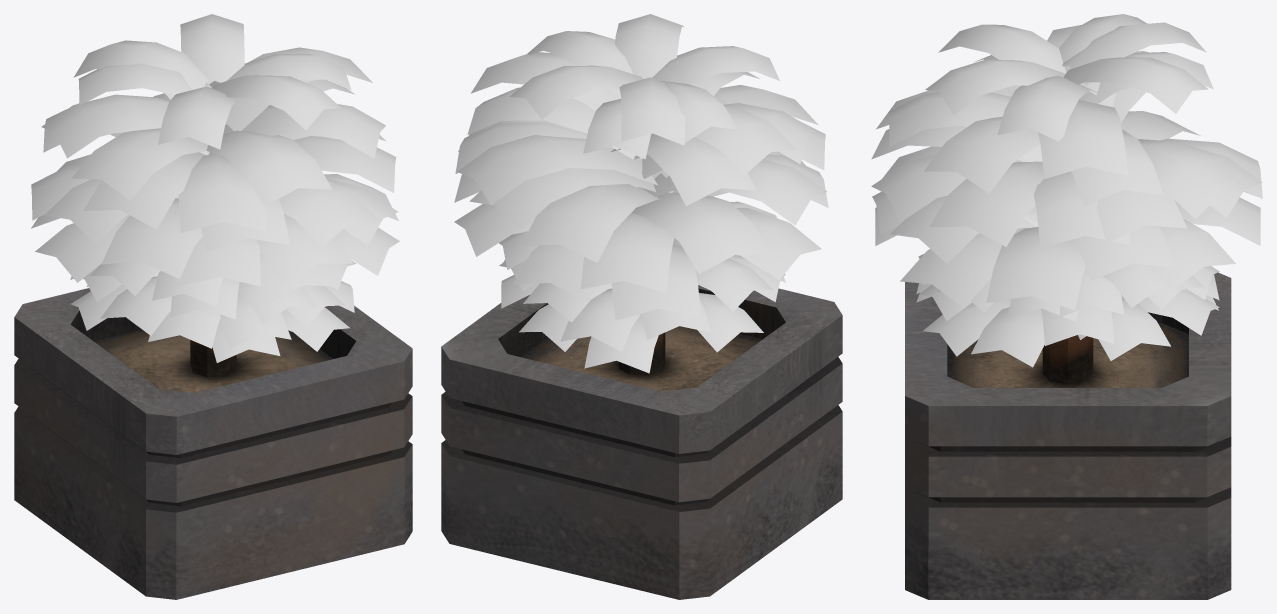
File: РелКуст Городской.fbx
The picture shows the model from 3 angles, left to right: view 1: azimuth 30°, elevation 25°; view 2: azimuth 150°, elevation 25°; view 3: azimuth 270°, elevation 25°; orthographic projection. The views are drawn at different scales.
Visible parts, largest first — view 1: Cube, Плоскость.002; view 2: Cube, Плоскость.002; view 3: Плоскость.002, Cube.
Boxes of the visible parts, <box> form: Cube: <box>14,288,412,599</box>; Плоскость.002: <box>31,14,399,362</box>; Cube: <box>441,285,842,599</box>; Плоскость.002: <box>454,14,828,373</box>; Плоскость.002: <box>871,14,1262,367</box>; Cube: <box>905,272,1231,599</box>.
Bounding box in the file's own units: 242 × 330 × 240.
